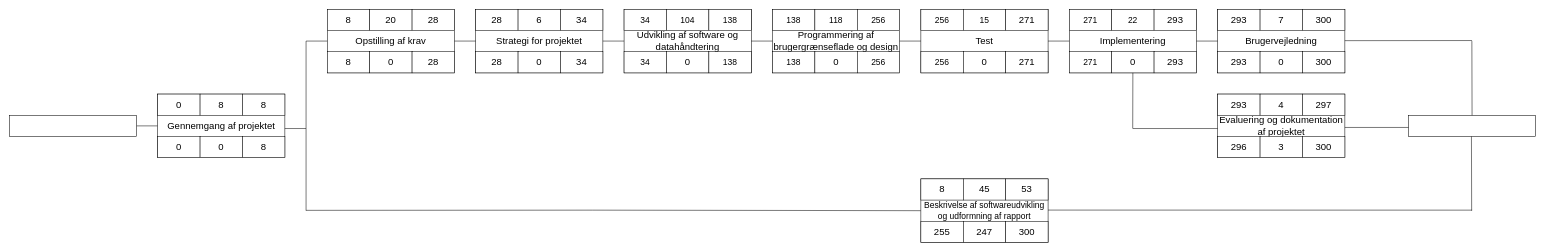
Some shapes in this 1545 by 252 pixel diagram are drawn without their labels. The centre of each missing label's shape, as x and y in pixels:
"Projekt afsluttet" belongs at point (1472, 125).
"Projekt start" belongs at point (72, 125).
